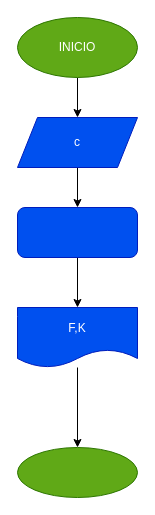
Image size: 155x515. Some labels were removed from this diagram. Each missing label, with the centre of its shape:
FIN: (77,472)
k=c+273.15 F=1.8*c+32: (77,232)
